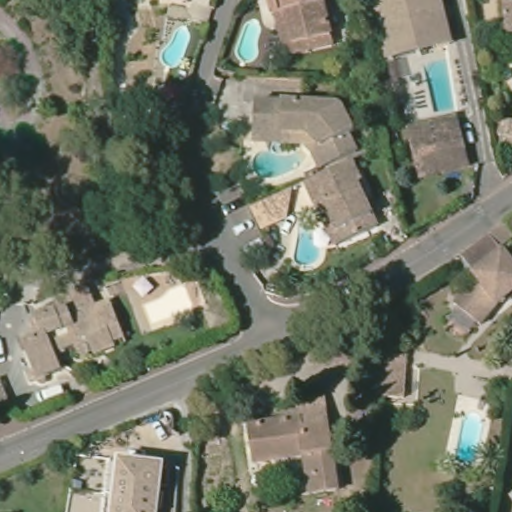pool: (409, 51, 465, 119), (246, 137, 309, 183), (449, 408, 491, 469), (285, 211, 327, 272), (150, 19, 193, 70), (230, 16, 269, 70)
